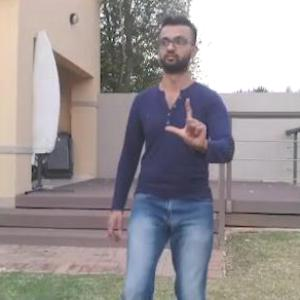land_hand: (162, 93, 214, 155)
